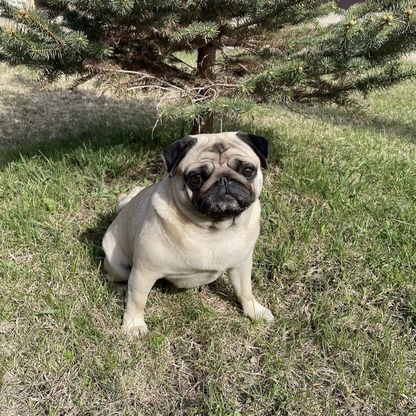Pug: (93, 125, 277, 339)
